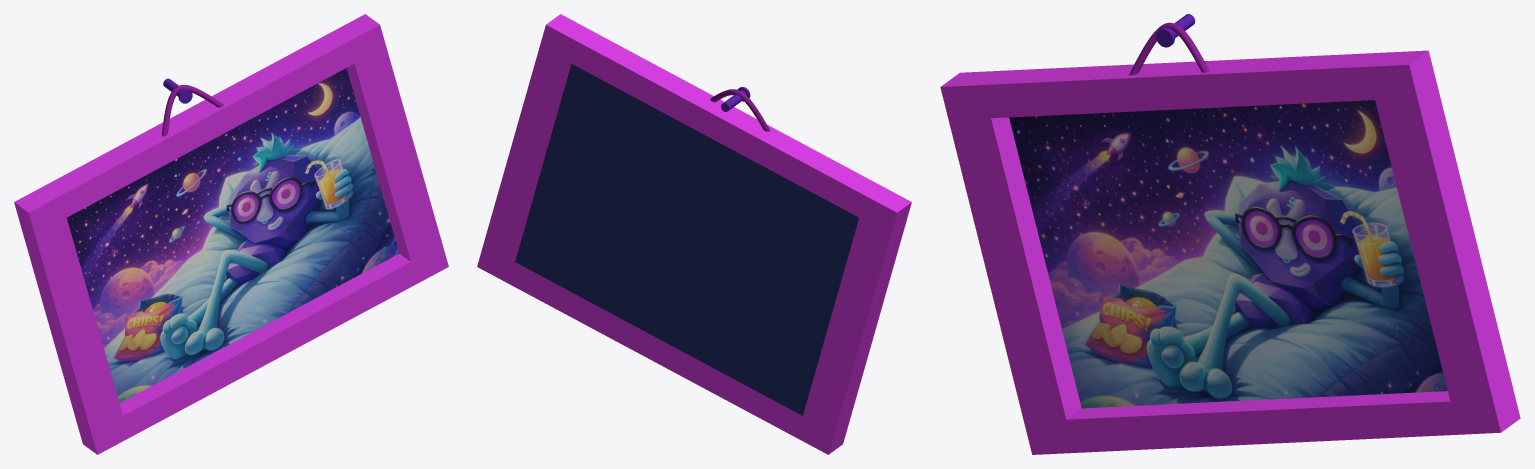
File: cadrePhoto.glb
3 views of the same model, side by side, from view 1: azimuth 30°, elevation 25°; view 2: azimuth 150°, elevation 25°; view 3: azimuth 330°, elevation 25° (orthographic). The views are drawn at different scales.
Parts seen in each view (by area): view 1: Plane.010; view 2: Plane.010; view 3: Plane.010.
Boxes of the visible parts, x1,y1,x2,y2 form: Plane.010: (14, 14, 448, 454); Plane.010: (477, 14, 911, 454); Plane.010: (940, 14, 1520, 454).
Size of the model in its own units: 3.27 by 2.69 by 0.325.
5 materials, 1 textured.
